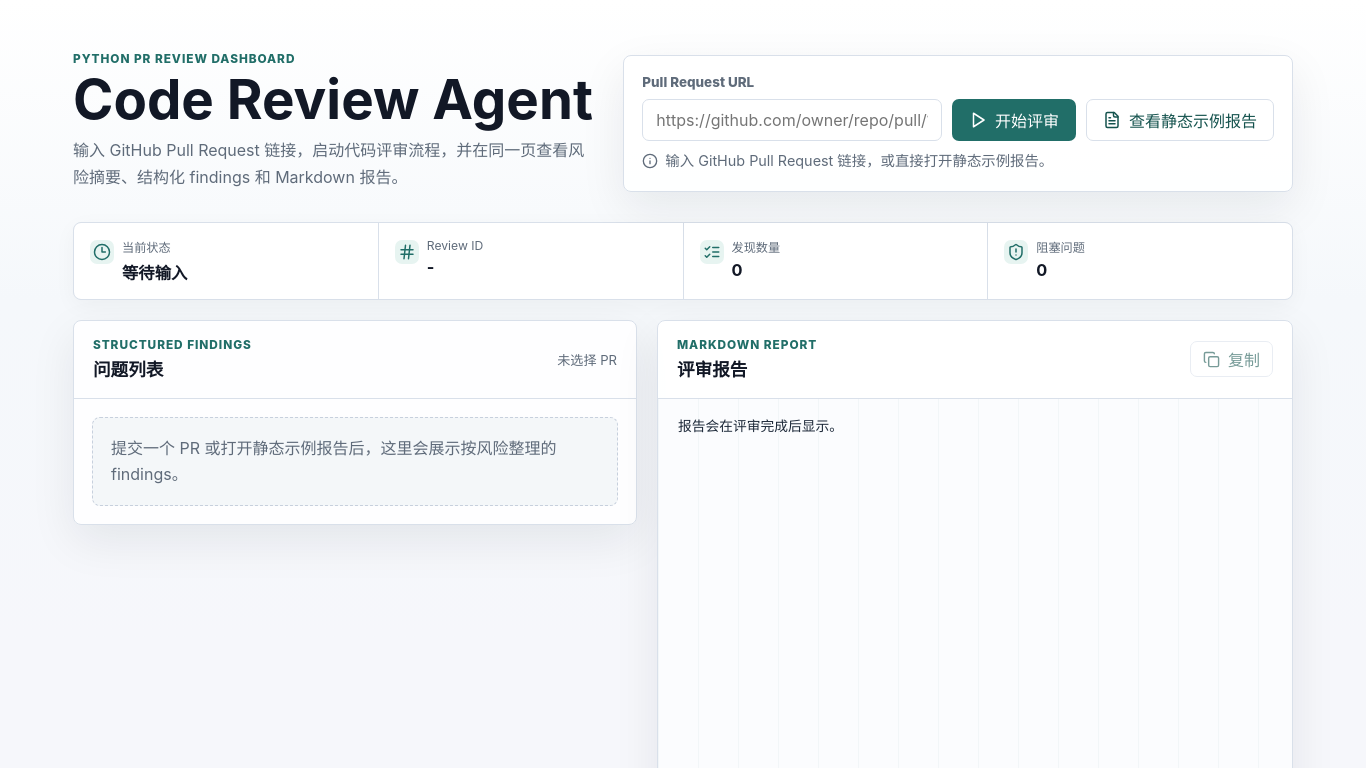
it: App › validates PR URLs before submitting
This screenshot has width=1366, height=768.
Type "https://github.com/octo/demo/issues/1" into the field labelled "Pull Request URL". click: (792, 120)
box: [642, 99, 942, 141]
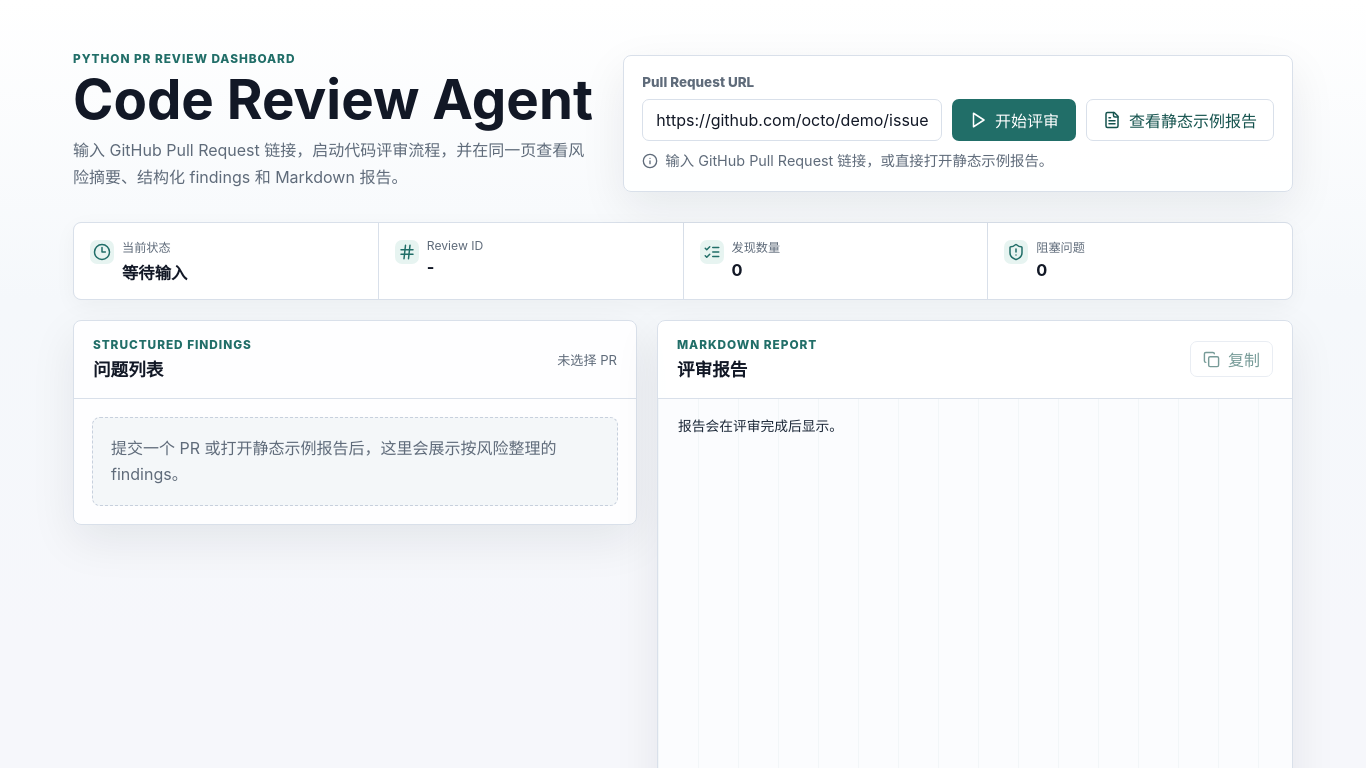
Click the button "开始评审". click: (1014, 120)
box: [952, 99, 1076, 141]
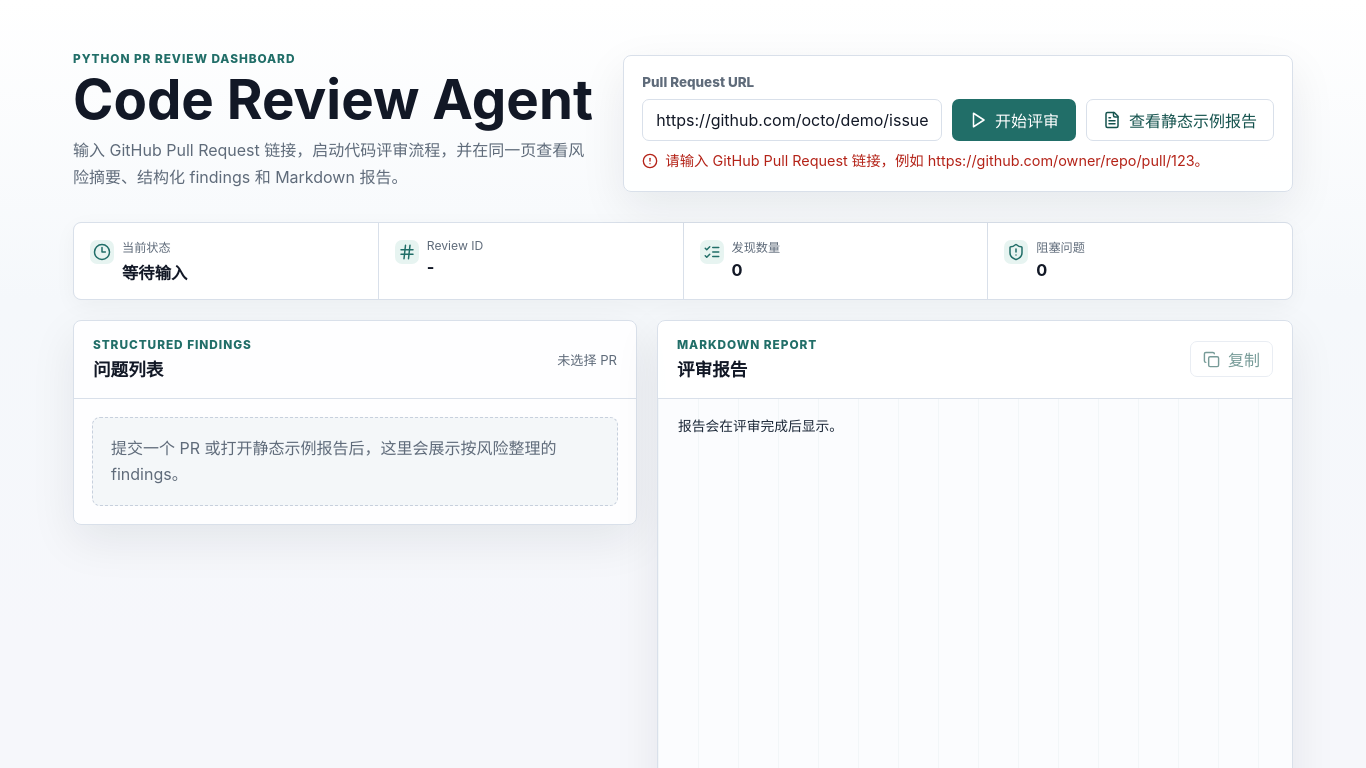
Expected: the text "请输入 GitHub Pull Request 链接" is shown, [665, 152, 1209, 169]
